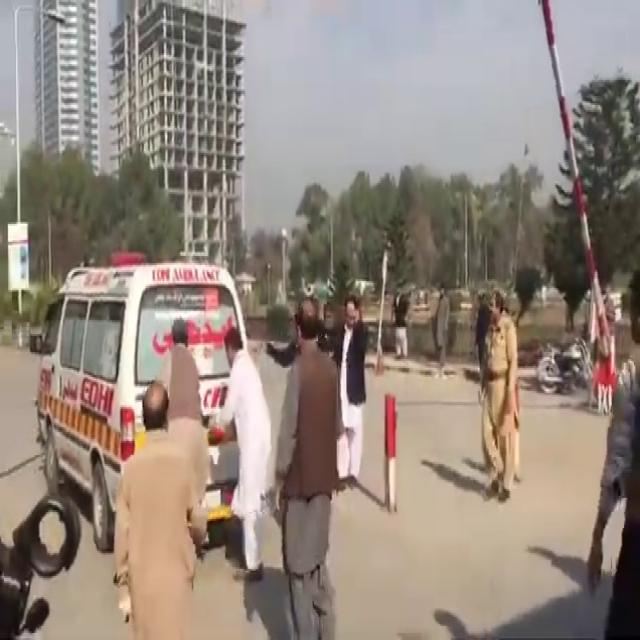ambulance: (20, 277, 266, 525)
